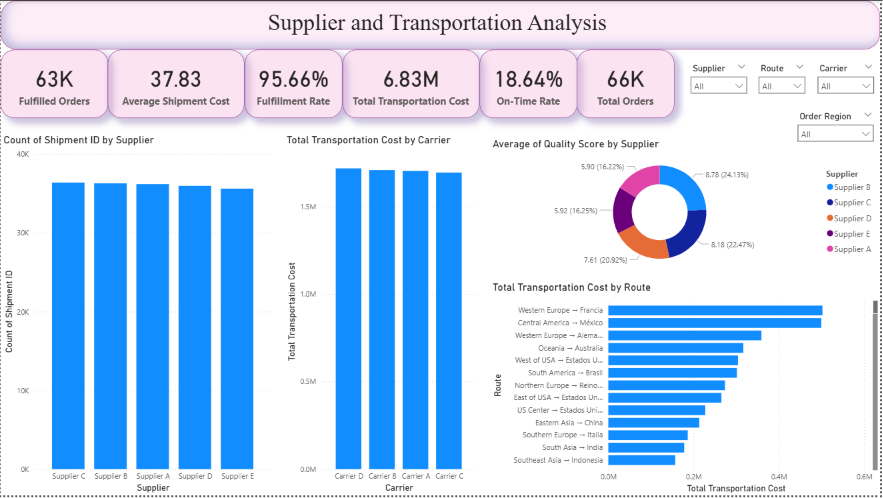

What the dashboard file says about the page in this screenshot:
{"tool":"powerbi","page":{"name":"milestone3","canvas":[1440,810],"ordinal":4},"visuals":[{"type":"textbox","box":[0,0,1440,80],"z":0},{"type":"card","fields":{"Values":["FactShipment.Fulfilled Orders"]},"box":[0,80,176,112],"z":1000},{"type":"card","fields":{"Values":["FactShipment.Average Shipment Cost"]},"box":[176,80,224,112],"z":2000},{"type":"card","fields":{"Values":["FactShipment.Fulfillment Rate"]},"box":[400,80,160,112],"z":3000},{"type":"card","fields":{"Values":["FactShipment.Total Transportation Cost"]},"box":[560,80,224,112],"z":4000},{"type":"card","fields":{"Values":["FactShipment.On-Time Rate"]},"box":[784,80,160,112],"z":5000},{"type":"card","fields":{"Values":["FactOrders.Total Orders"]},"box":[944,80,160,112],"z":6000},{"type":"clusteredColumnChart","fields":{"Category":["FactShipment.Supplier"],"Y":["CountNonNull(FactShipment.Shipment ID)"]},"box":[0,218,448,592],"z":7000},{"type":"donutChart","fields":{"Category":["FactShipment.Supplier"],"Y":["Avg(FactShipment.Quality Score)"]},"box":[800,224,640,224],"z":8000},{"type":"clusteredColumnChart","fields":{"Category":["FactShipment.Carrier"],"Y":["FactShipment.Total Transportation Cost"]},"box":[464,218,320,592],"z":9000},{"type":"clusteredBarChart","fields":{"Category":["FactShipment.Route"],"Y":["FactShipment.Total Transportation Cost"]},"box":[800,458,640,352],"z":10000},{"type":"slicer","fields":{"Values":["FactShipment.Supplier"]},"box":[1120,96,112,80],"z":11000},{"type":"slicer","fields":{"Values":["FactShipment.Route"]},"box":[1232,96,96,80],"z":12000},{"type":"slicer","fields":{"Values":["FactShipment.Carrier"]},"box":[1328,96,112,80],"z":13000},{"type":"slicer","fields":{"Values":["FactShipment.Order Region"]},"box":[1296,176,144,80],"z":14000}]}

Visuals, with their boxes in screenshot pixels (x1, y1, x2, y2), scaled from the page's 1440x810 canvas onto the 883x498 screenshot:
textbox: <box>0,0,882,49</box>
card - FactShipment.Fulfilled Orders: <box>0,49,108,118</box>
card - FactShipment.Average Shipment Cost: <box>108,49,245,118</box>
card - FactShipment.Fulfillment Rate: <box>245,49,343,118</box>
card - FactShipment.Total Transportation Cost: <box>343,49,481,118</box>
card - FactShipment.On-Time Rate: <box>481,49,579,118</box>
card - FactOrders.Total Orders: <box>579,49,677,118</box>
clusteredColumnChart - FactShipment.Supplier x CountNonNull(FactShipment.Shipment ID): <box>0,134,275,497</box>
donutChart - FactShipment.Supplier x Avg(FactShipment.Quality Score): <box>491,138,882,275</box>
clusteredColumnChart - FactShipment.Carrier x FactShipment.Total Transportation Cost: <box>285,134,481,497</box>
clusteredBarChart - FactShipment.Route x FactShipment.Total Transportation Cost: <box>491,282,882,497</box>
slicer - FactShipment.Supplier: <box>687,59,755,108</box>
slicer - FactShipment.Route: <box>755,59,814,108</box>
slicer - FactShipment.Carrier: <box>814,59,882,108</box>
slicer - FactShipment.Order Region: <box>795,108,882,157</box>
